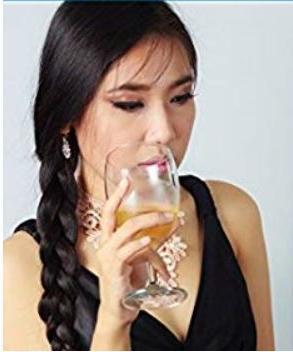Sober: (94, 43, 189, 182)
